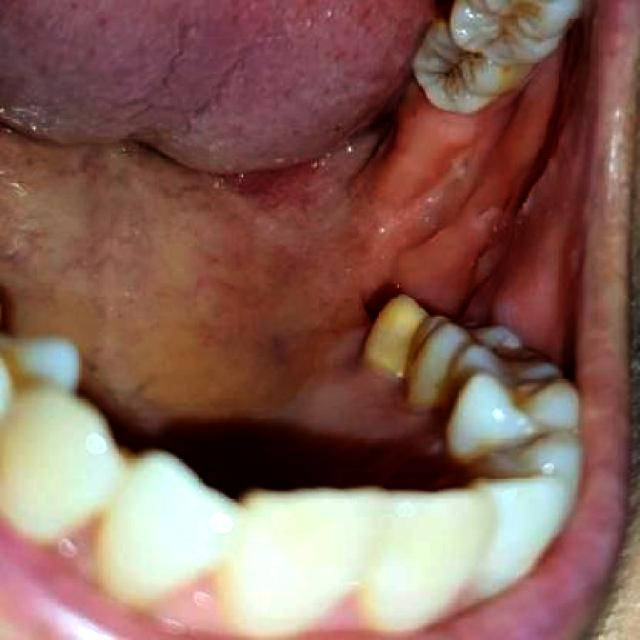Plaque: (474, 23, 531, 68), (432, 53, 487, 92)
